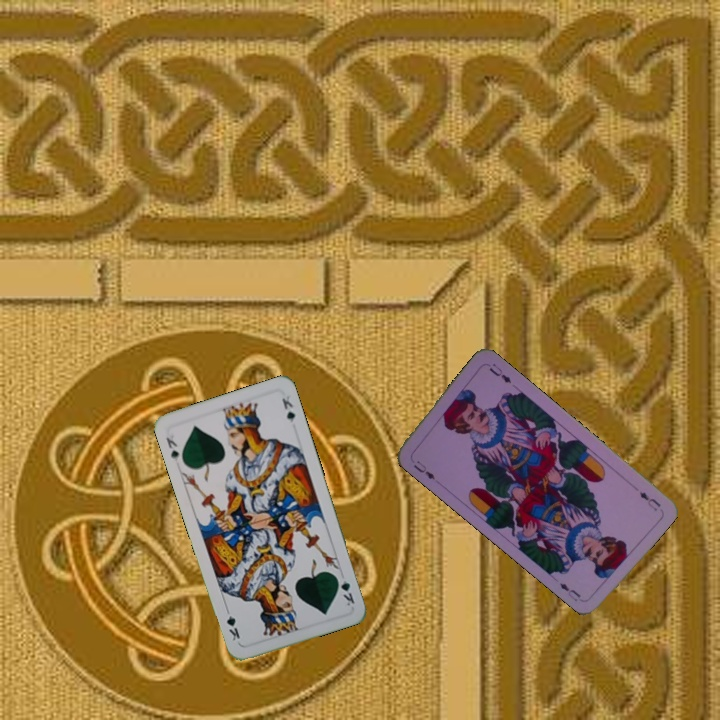EU: (635, 488, 663, 514), (410, 456, 437, 482)
GK: (332, 571, 357, 608), (162, 431, 182, 464)
